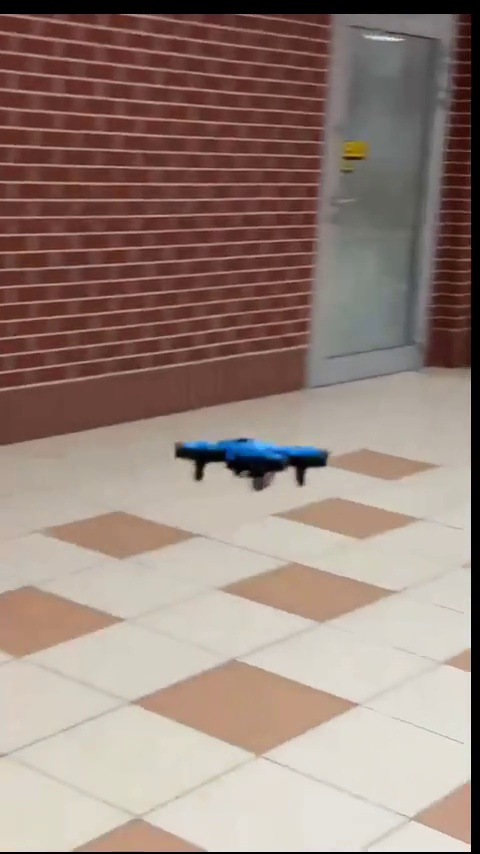drone: (162, 429, 329, 485)
